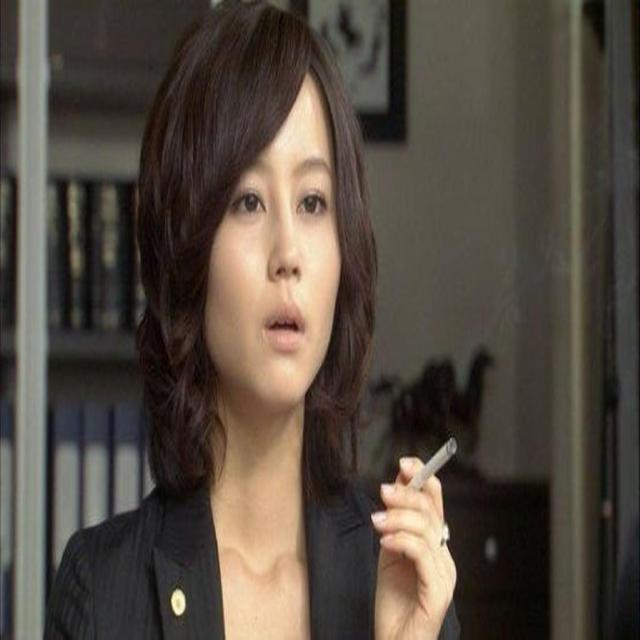smoking: (134, 12, 488, 578)
